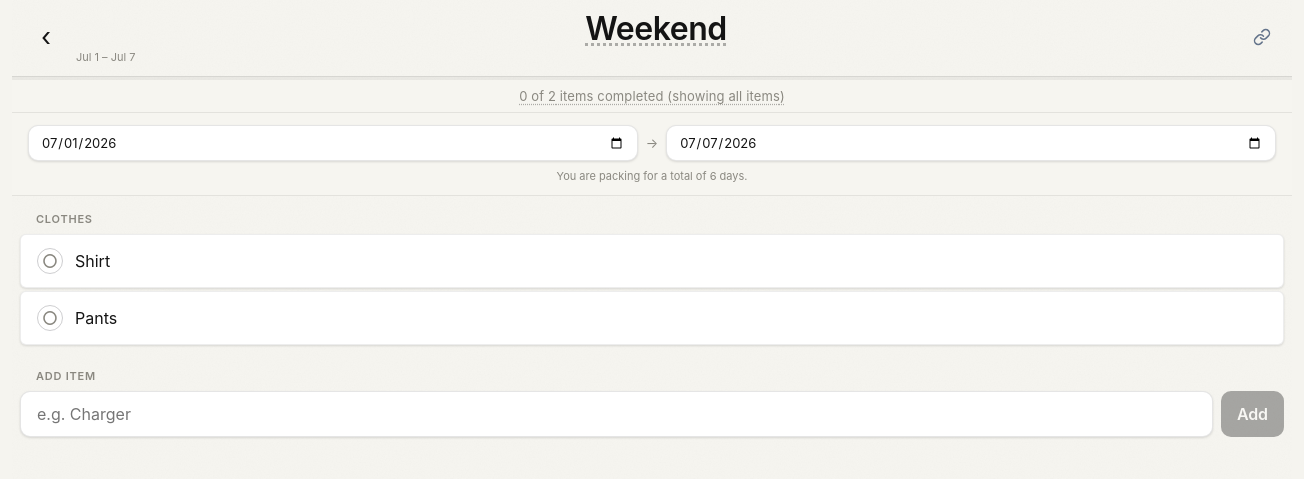
Test case: screen integration — packing lifecycle › marks packing done after all items are checked off
Expected: the text "Shirt" is shown, 75,251 -> 110,271
Click the button with aria-label "Shirt — tap to cycle status" at [93, 261], box 21,235 -> 1283,287
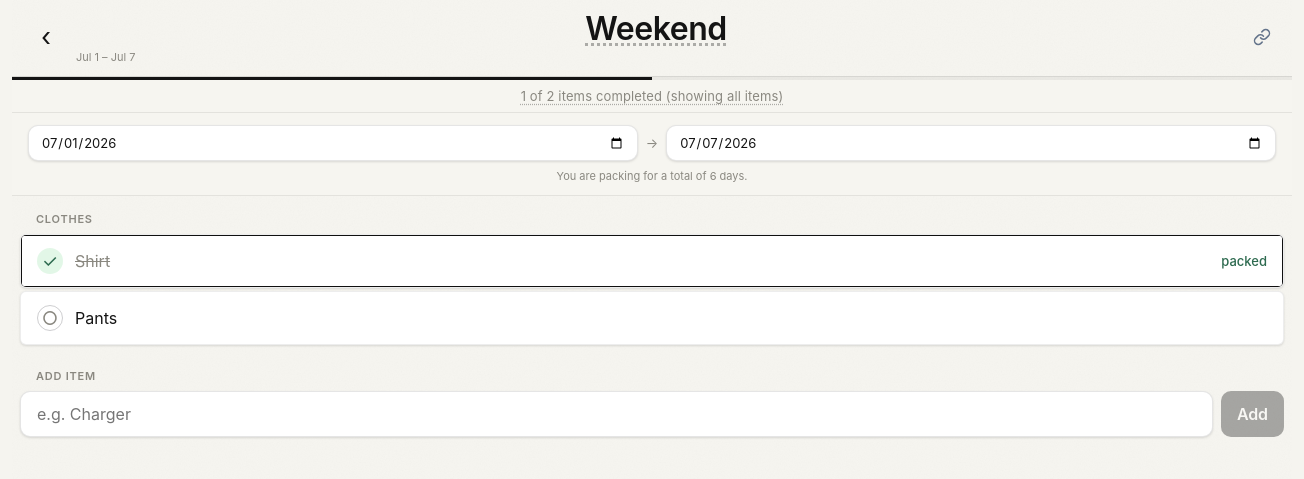
Click the button with aria-label "Pants — tap to cycle status" at [96, 318], box 21,292 -> 1283,344
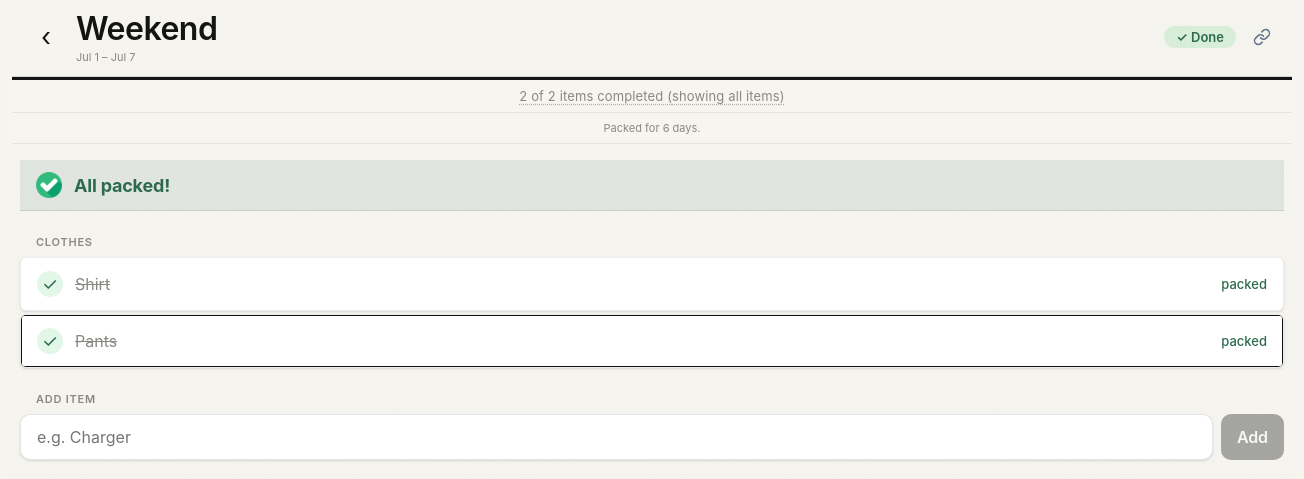
Expected: the text "✓ Done" is shown, 1164,26 -> 1236,48
